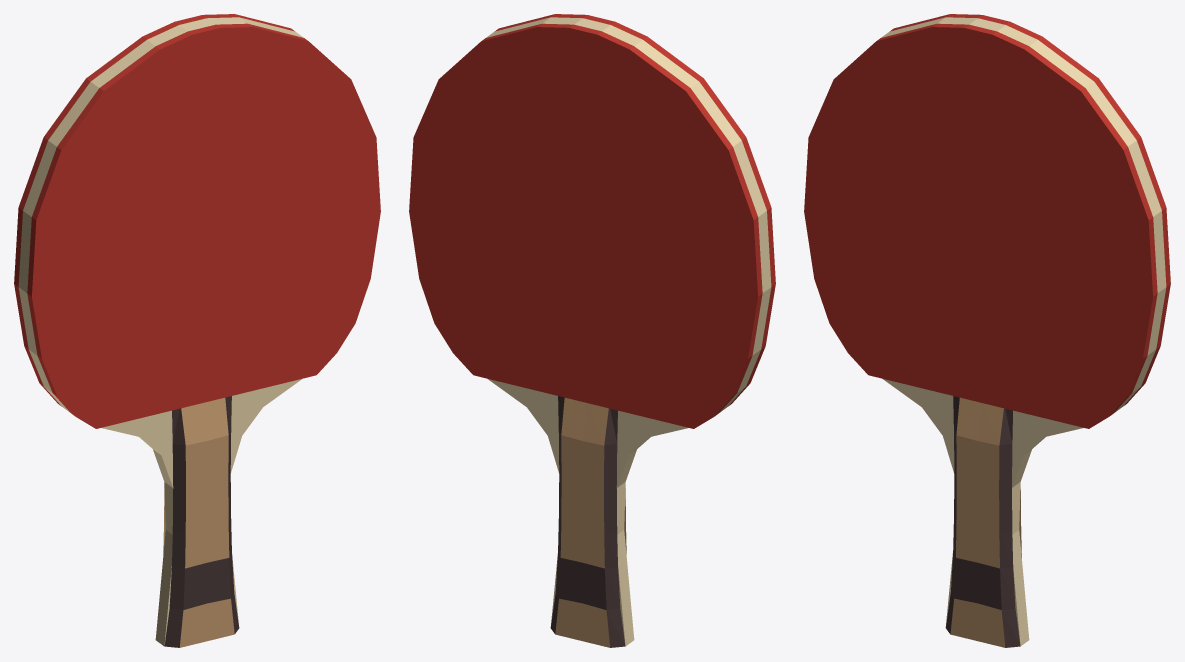
Rendered from RaquettePingPong.fbx.
3 views of the same model, side by side, from view 1: azimuth 30°, elevation 25°; view 2: azimuth 150°, elevation 25°; view 3: azimuth 330°, elevation 25° (orthographic).
Visible parts, largest first — view 1: RaquettePingPong; view 2: RaquettePingPong; view 3: RaquettePingPong.
Boxes of the visible parts, box(x1,y1,x2,y2) form: RaquettePingPong: box(14, 14, 380, 647); RaquettePingPong: box(409, 14, 775, 647); RaquettePingPong: box(804, 14, 1170, 647).
Size of the model in its own units: 14.54 by 24.25 by 1.39.
